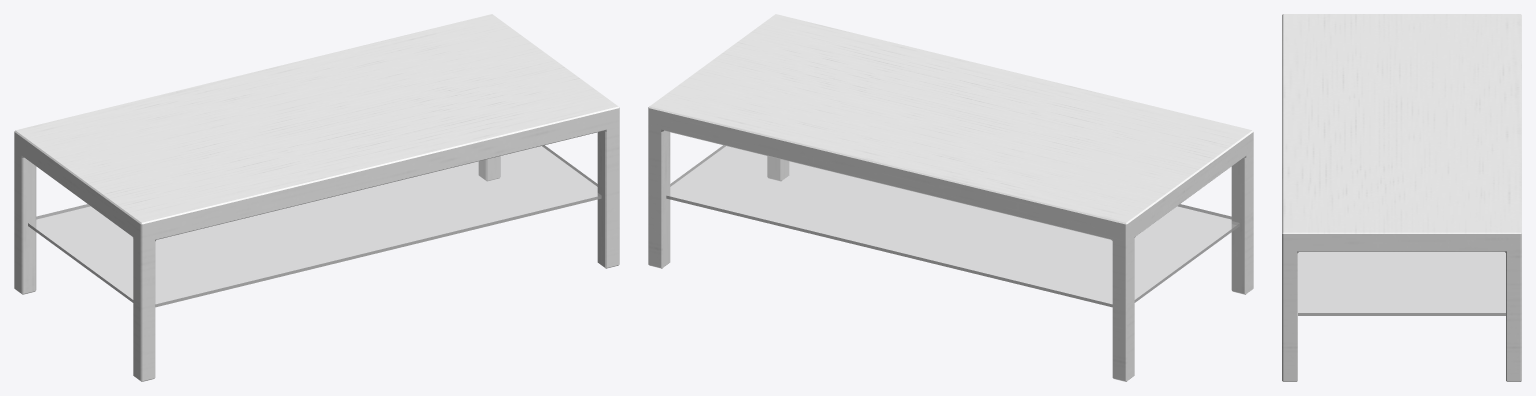
Rendered from sidetable_A.fbx.
3 views of the same model, side by side, from view 1: azimuth 30°, elevation 25°; view 2: azimuth 150°, elevation 25°; view 3: azimuth 270°, elevation 25° (orthographic). The views are drawn at different scales.
Parts seen in each view (by area): view 1: sidetable_A; view 2: sidetable_A; view 3: sidetable_A.
Boxes of the visible parts, bbox=[...] form: sidetable_A: bbox=[14, 14, 619, 381]; sidetable_A: bbox=[648, 14, 1253, 381]; sidetable_A: bbox=[1282, 14, 1521, 381].
Bounding box in the file's own units: 130 × 41.27 × 60.
